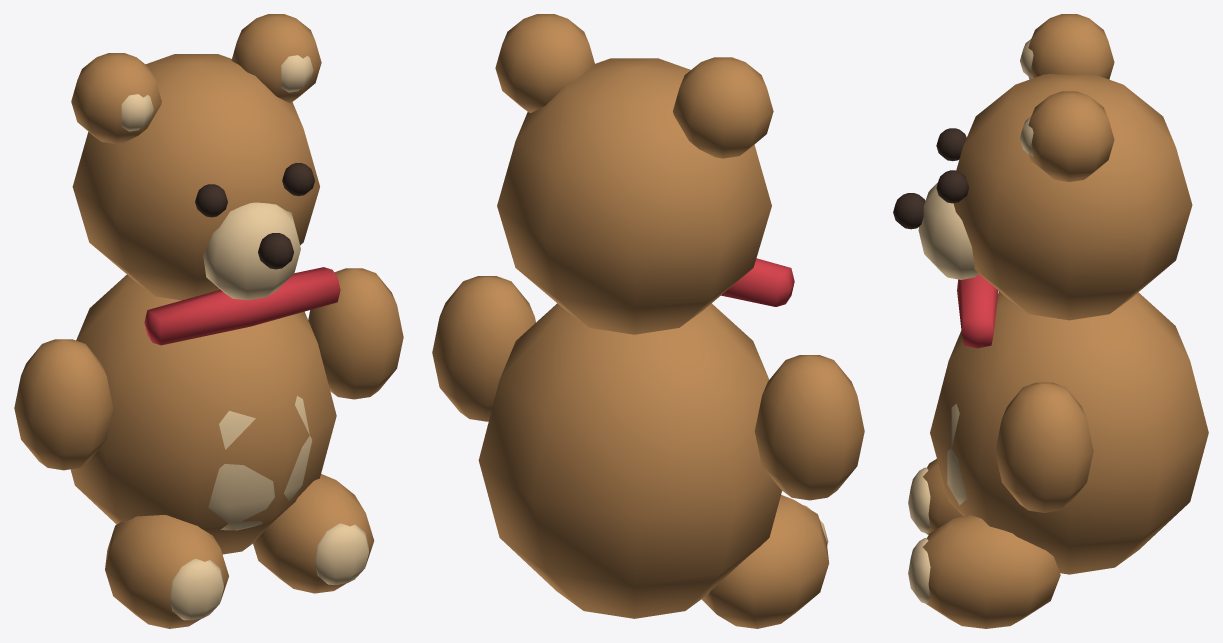
File: teddy.glb
The picture shows the model from 3 angles, left to right: view 1: azimuth 30°, elevation 25°; view 2: azimuth 150°, elevation 25°; view 3: azimuth 270°, elevation 25°; orthographic projection. The views are drawn at different scales.
Parts seen in each view (by area): view 1: root; view 2: root; view 3: root.
Boxes of the visible parts, x1=… form: root: x1=14, y1=14, x2=403, y2=628; root: x1=432, y1=14, x2=864, y2=628; root: x1=893, y1=14, x2=1208, y2=628.
Size of the model in its own units: 0.5164 by 0.705 by 0.3791.
